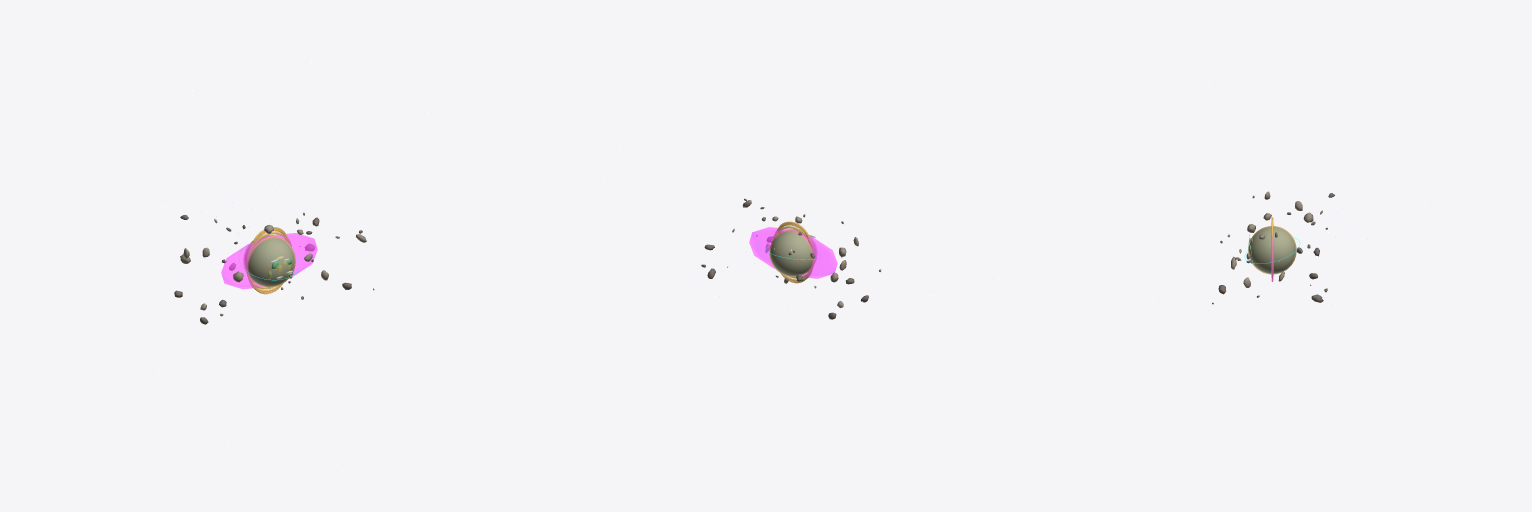
File: cosmoforge_space_environment_pack.glb
The picture shows the model from 3 angles, left to right: view 1: azimuth 30°, elevation 25°; view 2: azimuth 150°, elevation 25°; view 3: azimuth 270°, elevation 25°; orthographic projection. The views are drawn at different scales.
Parts seen in each view (by area): view 1: Venus_Atmosphere, Space_Nebula_Shell, Earth_Surface; view 2: Venus_Atmosphere, Space_Nebula_Shell, Earth_Surface; view 3: Venus_Atmosphere, Earth_Surface.
Part boxes in pixels (x1=…): Venus_Atmosphere: x1=243, y1=235, x2=295, y2=287; Space_Nebula_Shell: x1=221, y1=233, x2=317, y2=289; Earth_Surface: x1=248, y1=236, x2=293, y2=285; Venus_Atmosphere: x1=769, y1=229, x2=816, y2=276; Space_Nebula_Shell: x1=749, y1=227, x2=837, y2=278; Earth_Surface: x1=771, y1=230, x2=812, y2=275; Venus_Atmosphere: x1=1248, y1=226, x2=1296, y2=274; Earth_Surface: x1=1249, y1=227, x2=1295, y2=272.
Size of the model in its own units: 57.99 by 61.13 by 59.13.
